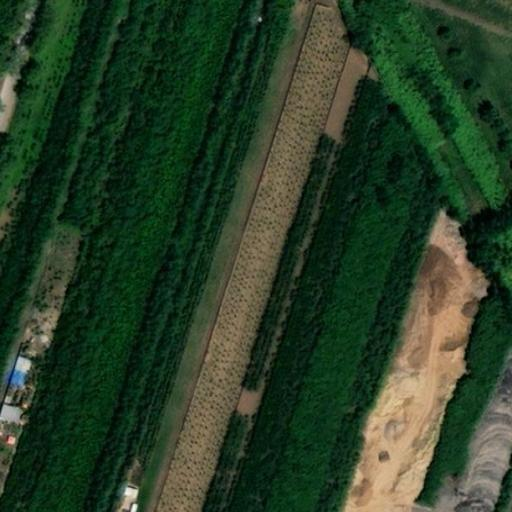building: (12, 354, 35, 394), (0, 414, 32, 436)
